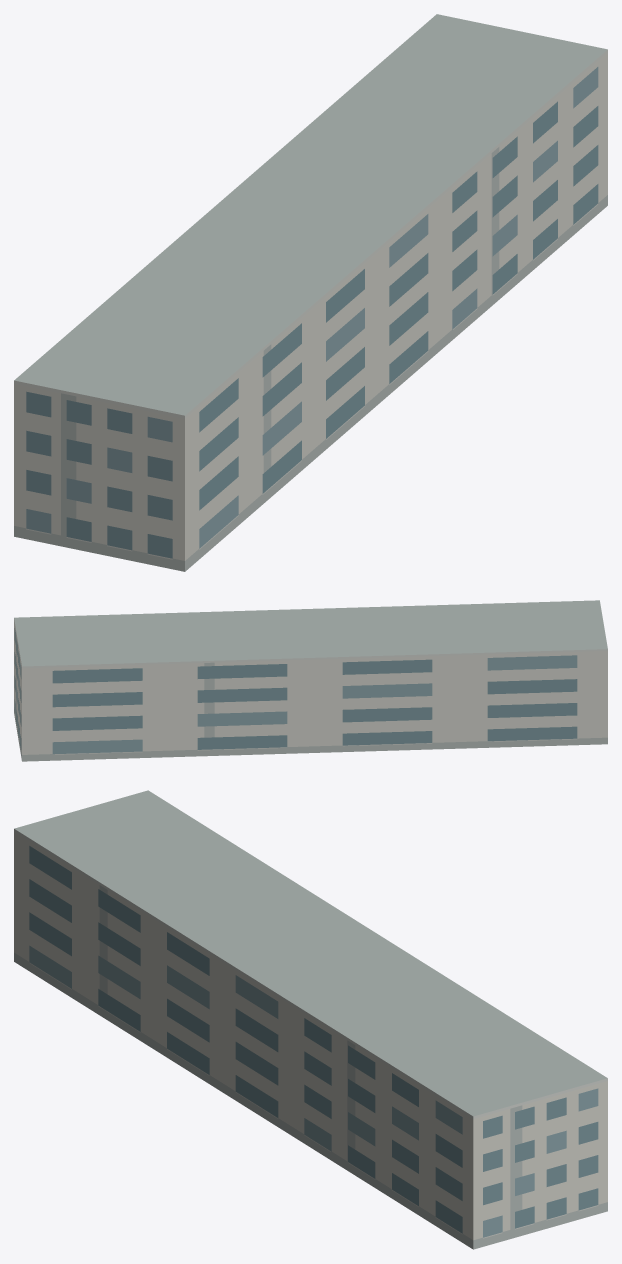
The model's file is residential-fd8d21f8-6212-477c-8566-a1eb65b26c62.glb.
3 renders of one model, top to bottom at view 1: azimuth 30°, elevation 25°; view 2: azimuth 150°, elevation 25°; view 3: azimuth 270°, elevation 25°, orthographic. The views are drawn at different scales.
Visible parts, largest first — view 1: residential-fd8d21f8-6212-477c-8566-a1eb65b26c62.tmp; view 2: residential-fd8d21f8-6212-477c-8566-a1eb65b26c62.tmp; view 3: residential-fd8d21f8-6212-477c-8566-a1eb65b26c62.tmp.
Boxes of the visible parts, x1=… form: residential-fd8d21f8-6212-477c-8566-a1eb65b26c62.tmp: x1=14, y1=14, x2=607, y2=571; residential-fd8d21f8-6212-477c-8566-a1eb65b26c62.tmp: x1=14, y1=600, x2=607, y2=761; residential-fd8d21f8-6212-477c-8566-a1eb65b26c62.tmp: x1=14, y1=790, x2=607, y2=1249.
Size of the model in its own units: 64.13 by 12.2 by 49.35.
